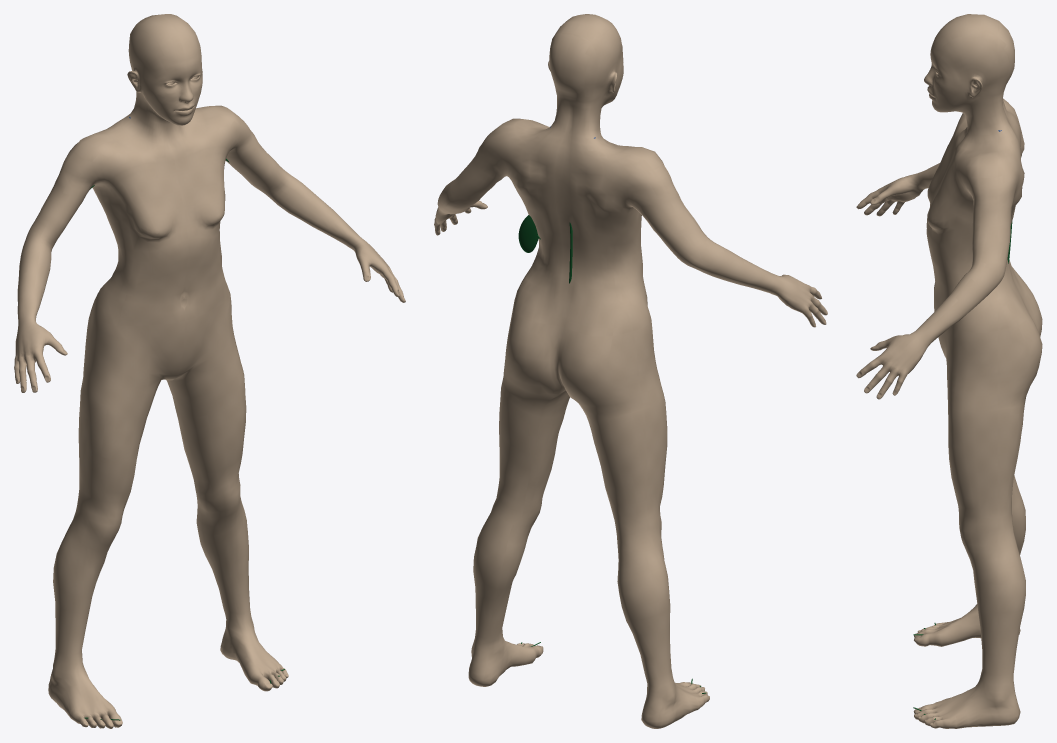
File: lymphatic-system-figure.glb
3 views of the same model, side by side, from view 1: azimuth 30°, elevation 25°; view 2: azimuth 150°, elevation 25°; view 3: azimuth 270°, elevation 25° (orthographic).
Visible parts, largest first — view 1: MakeHuman CC0 systems orientation envelope; view 2: MakeHuman CC0 systems orientation envelope; view 3: MakeHuman CC0 systems orientation envelope.
Part boxes in pixels (left/top/right/bottom): MakeHuman CC0 systems orientation envelope: left=14, top=14, right=405, bottom=728; MakeHuman CC0 systems orientation envelope: left=434, top=14, right=827, bottom=728; MakeHuman CC0 systems orientation envelope: left=856, top=14, right=1042, bottom=728.
Size of the model in its own units: 1.04 by 1.75 by 0.4444.
Materials: 3 (3 with a texture image).
